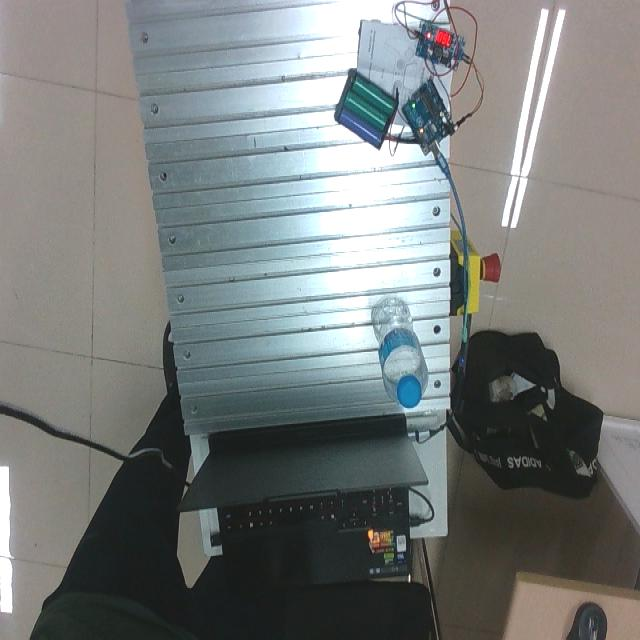lavie: (372, 297, 429, 408)
